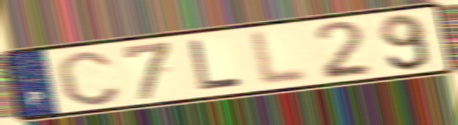2: (312, 19, 376, 82)
7: (121, 40, 173, 101)
9: (378, 12, 436, 73)
C: (52, 48, 124, 108)
L: (249, 28, 311, 88), (187, 37, 245, 93)
